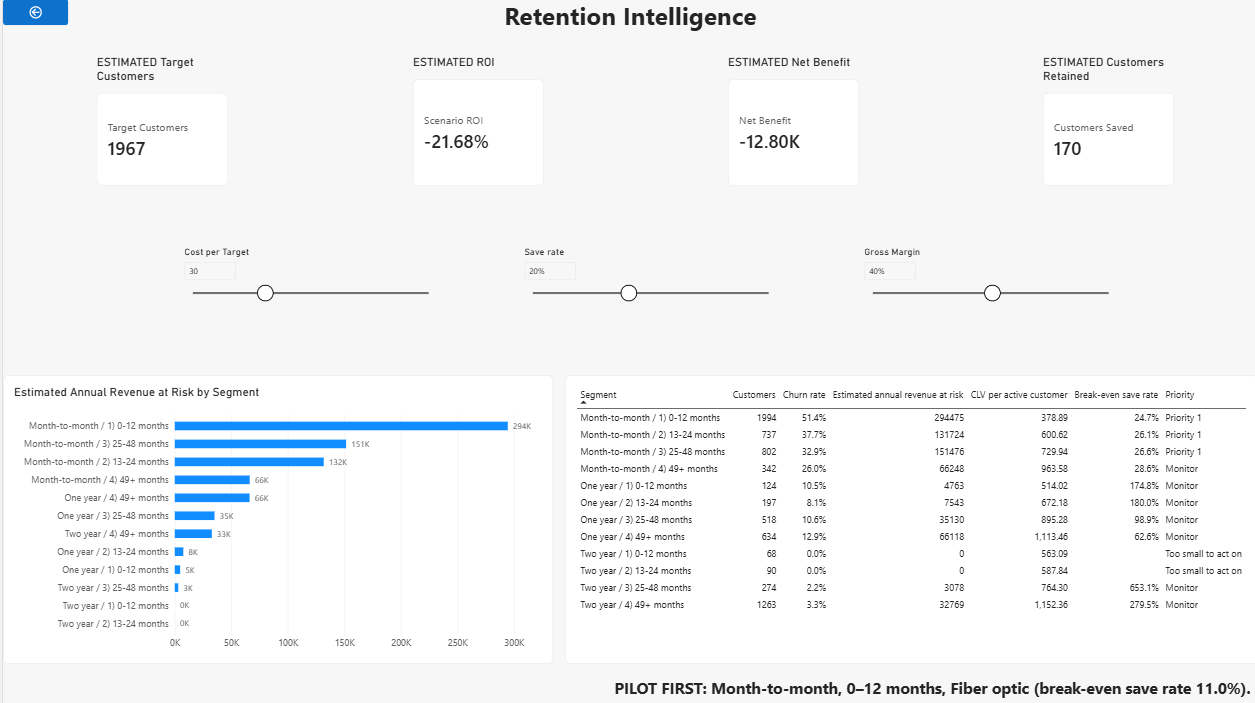

The dashboard page shown, as its layout file describes it:
{"tool":"powerbi","page":{"name":"Retention Intelligence","canvas":[1920,1080],"ordinal":2},"visuals":[{"type":"tableEx","fields":{"Values":["segments_for_powerbi.Segment","segments_for_powerbi.Customers","segments_for_powerbi.Churn rate","Sum(segments_for_powerbi.Est annual revenue at risk)","segments_for_powerbi.CLV per active customer","segments_for_powerbi.Break-even save rate","segments_for_powerbi.Priority"]},"box":[860.6,575.6,1059.4,441.8],"z":0},{"type":"actionButton","box":[0,0,100,40],"z":1000},{"type":"clusteredBarChart","title":"Estimated Annual Revenue at Risk by Segment","fields":{"Category":["segments_for_powerbi.Segment"],"Y":["Sum(segments_for_powerbi.Est annual revenue at risk)"]},"box":[0,575.6,841.4,441.8],"z":2000},{"type":"slicer","fields":{"Values":["Save rate.Save rate"]},"box":[788.9,378.9,400,150],"z":2001},{"type":"slicer","fields":{"Values":["Cost per Target.Cost per Target"]},"box":[268.7,378.9,400,150],"z":2002},{"type":"slicer","fields":{"Values":["Gross Margin.Gross Margin"]},"box":[1309.1,378.9,400,150],"z":2004},{"type":"cardVisual","title":"ESTIMATED Target Customers","fields":{"Data":["Cost per Target.Target Customers"]},"box":[144.2,86.4,200,200],"z":2005},{"type":"cardVisual","title":"ESTIMATED Customers Retained","fields":{"Data":["Cost per Target.Customers Saved"]},"box":[1591.1,86.4,200,200],"z":2006},{"type":"cardVisual","title":"ESTIMATED Net Benefit","fields":{"Data":["Cost per Target.Net Benefit"]},"box":[1108.8,86.4,200,200],"z":2007},{"type":"cardVisual","title":"ESTIMATED ROI","fields":{"Data":["Cost per Target.Scenario ROI"]},"box":[626.5,86.4,200,200],"z":2008},{"type":"textbox","box":[934.7,1038.1,985.3,41.3],"z":2009},{"type":"textbox","box":[0,0,1920,87.3],"z":2010}]}

Visuals, with their boxes in screenshot pixels (x1, y1, x2, y2), scaled from the page's 1920x1080 canvas onto the 1255x703 screenshot:
tableEx - segments_for_powerbi.Segment x segments_for_powerbi.Customers: bbox(563, 375, 1254, 662)
actionButton: bbox(0, 0, 65, 26)
"Estimated Annual Revenue at Risk by Segment" clusteredBarChart: bbox(0, 375, 550, 662)
slicer - Save rate.Save rate: bbox(516, 247, 777, 344)
slicer - Cost per Target.Cost per Target: bbox(176, 247, 437, 344)
slicer - Gross Margin.Gross Margin: bbox(856, 247, 1117, 344)
"ESTIMATED Target Customers" cardVisual: bbox(94, 56, 225, 186)
"ESTIMATED Customers Retained" cardVisual: bbox(1040, 56, 1171, 186)
"ESTIMATED Net Benefit" cardVisual: bbox(725, 56, 855, 186)
"ESTIMATED ROI" cardVisual: bbox(410, 56, 540, 186)
textbox: bbox(611, 676, 1254, 702)
textbox: bbox(0, 0, 1254, 57)
